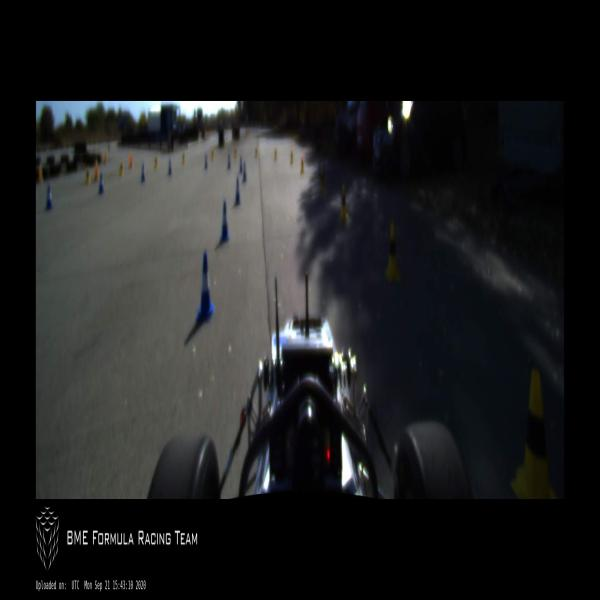blue_cone: (196, 251, 214, 322), (220, 202, 229, 242), (46, 184, 53, 210), (234, 177, 240, 205), (98, 173, 104, 193), (142, 162, 146, 184), (242, 162, 246, 183), (168, 157, 172, 176), (227, 152, 231, 170), (204, 152, 208, 170), (239, 156, 242, 174)
orange_cone: (94, 162, 98, 182), (130, 151, 132, 169)
yellow_cone: (510, 370, 559, 499), (385, 224, 400, 281), (340, 185, 348, 223), (320, 168, 324, 194), (300, 154, 304, 174), (86, 166, 90, 184), (290, 148, 294, 164), (120, 162, 124, 176), (274, 147, 277, 160), (211, 148, 214, 161), (254, 145, 257, 157), (182, 151, 184, 164), (155, 155, 157, 167), (234, 147, 236, 158)
